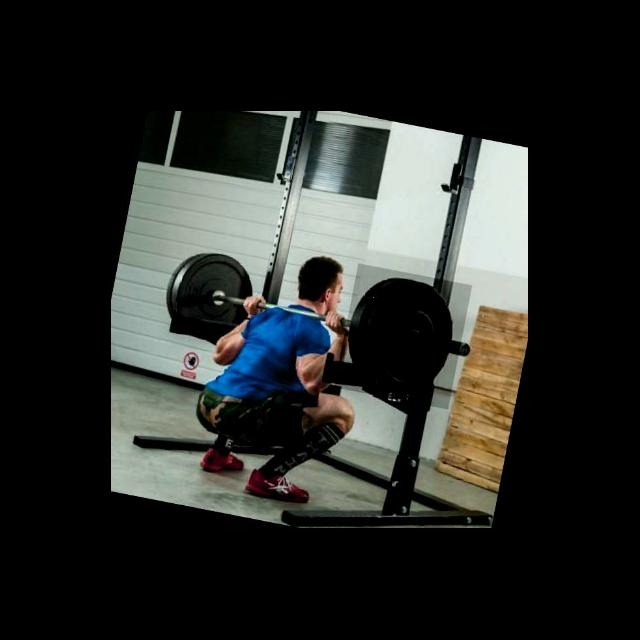barbell: (335, 264, 472, 410)
